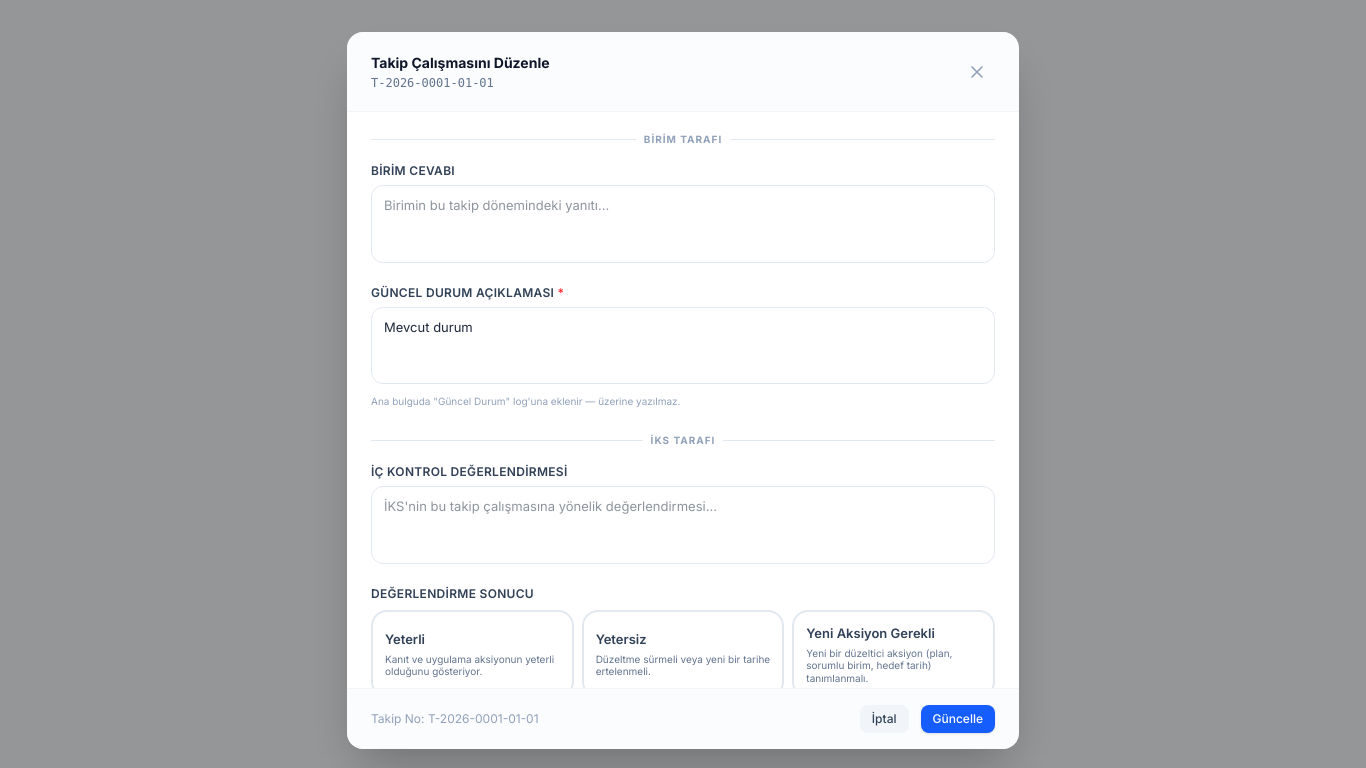
Scenario: Bulgu takip değerlendirme formu › YETERSIZ sonucunda erteleme seçilince yeni takip tarihini gösterir
Click the button "Yetersiz Düzeltme sürmeli veya yeni bir tarihe ertelenmeli." at (683, 654), box [582,610,784,698]
(page scrolled)
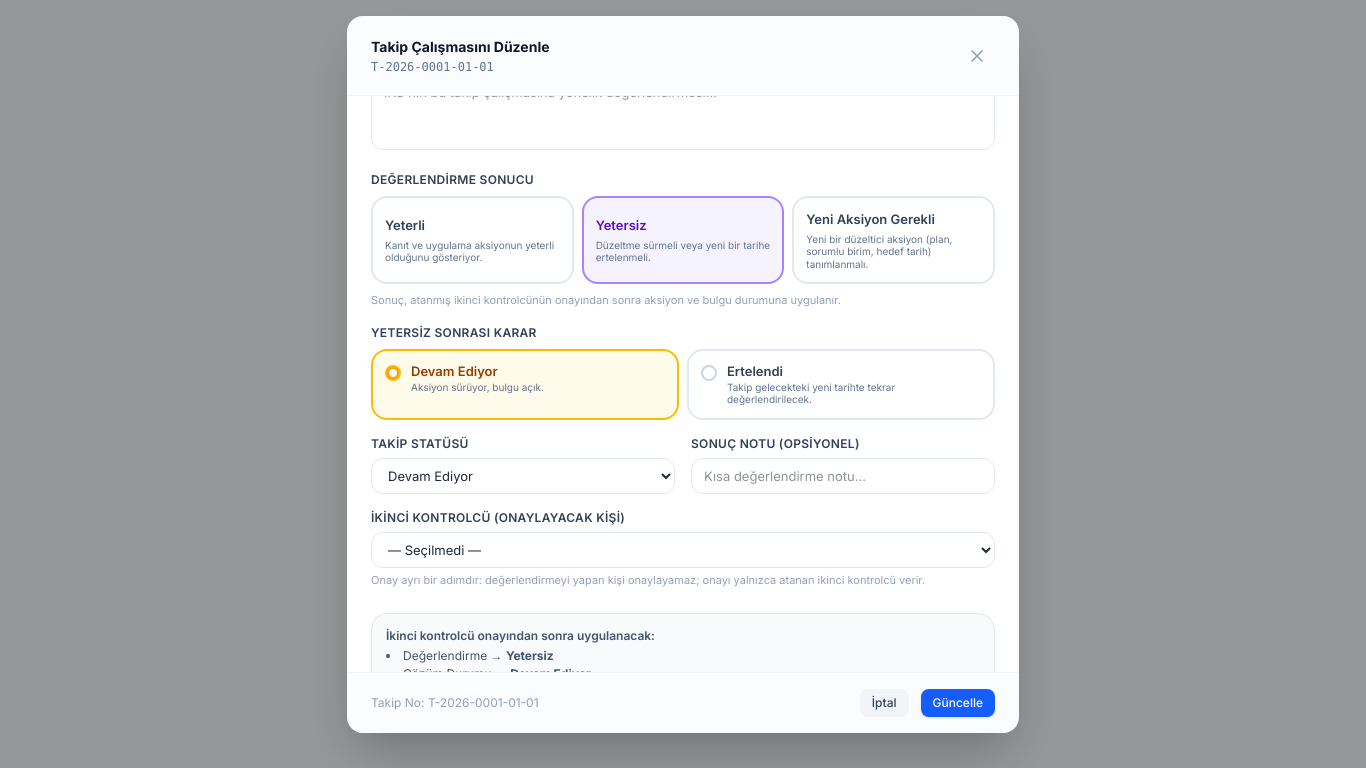
Click the button "Ertelendi" at (841, 384), box [687,349,995,420]
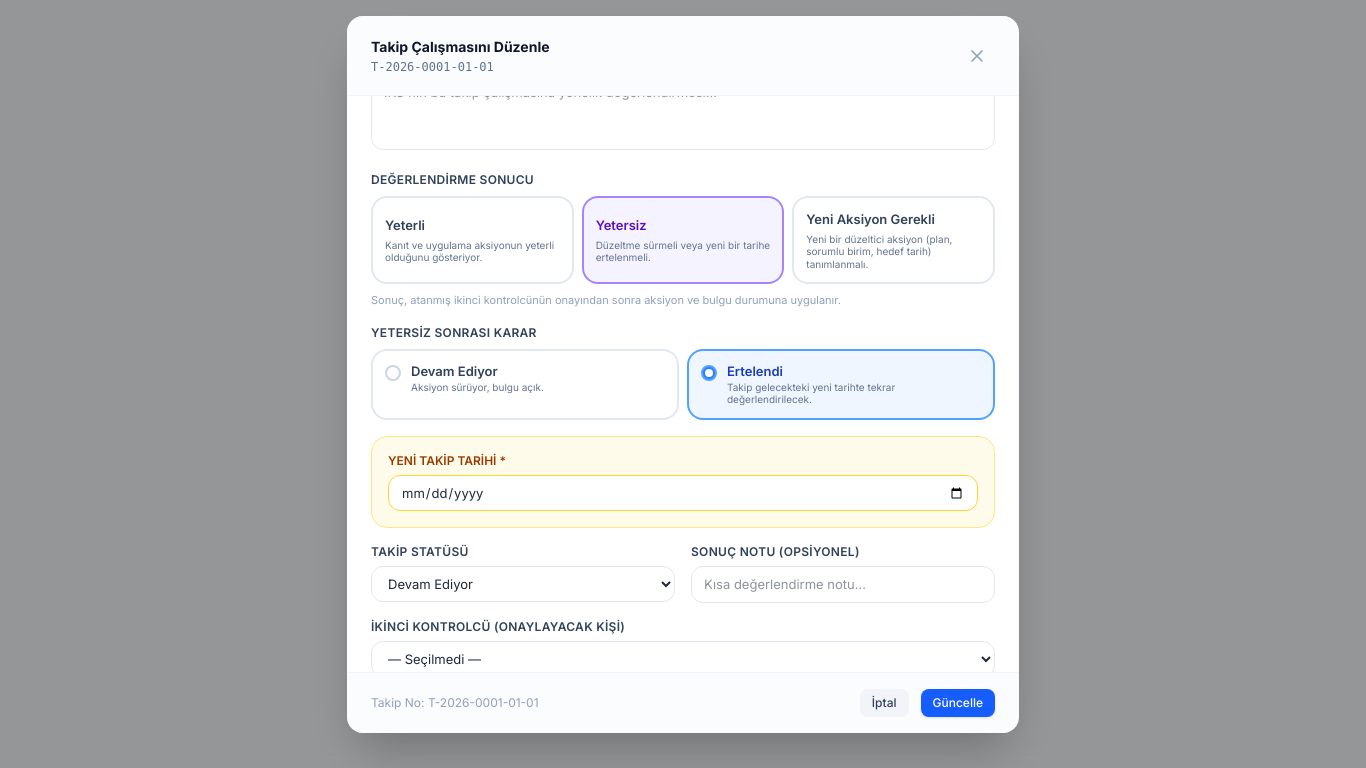
Check: the date field named "Yeni Takip Tarihi *" is shown, box [388,475,978,512]
